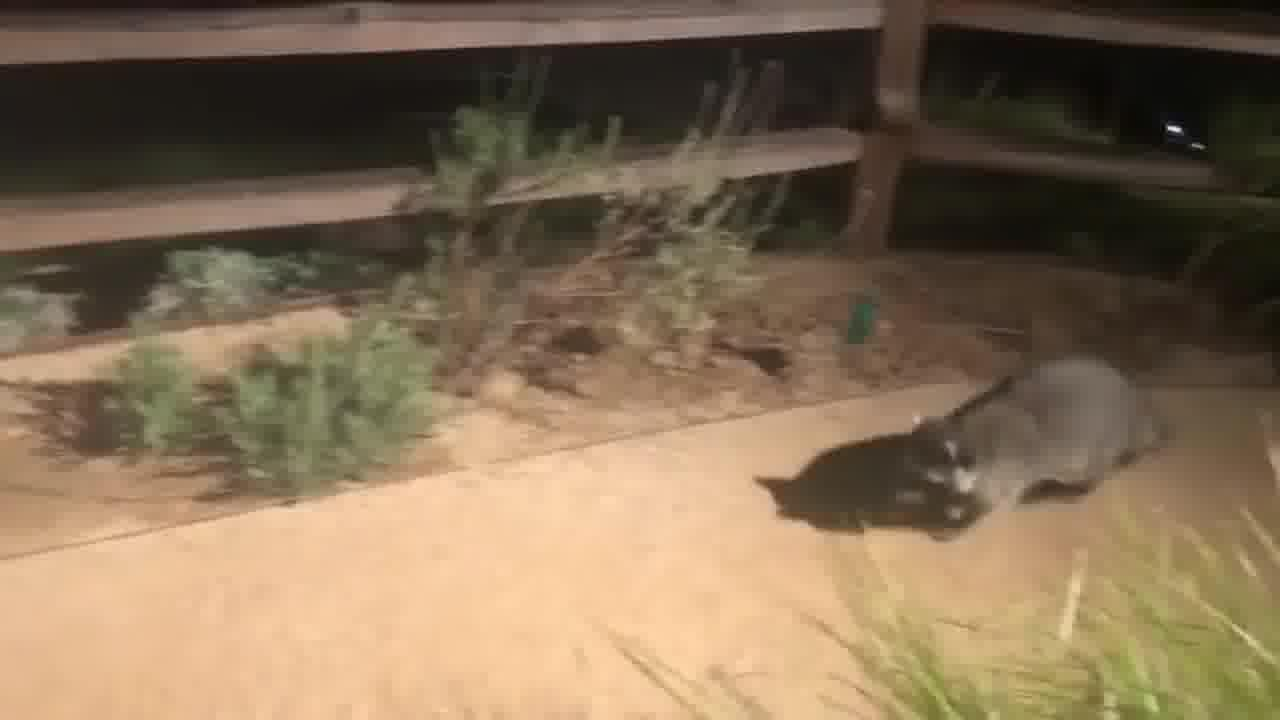raccoon: (902, 364, 1169, 543)
